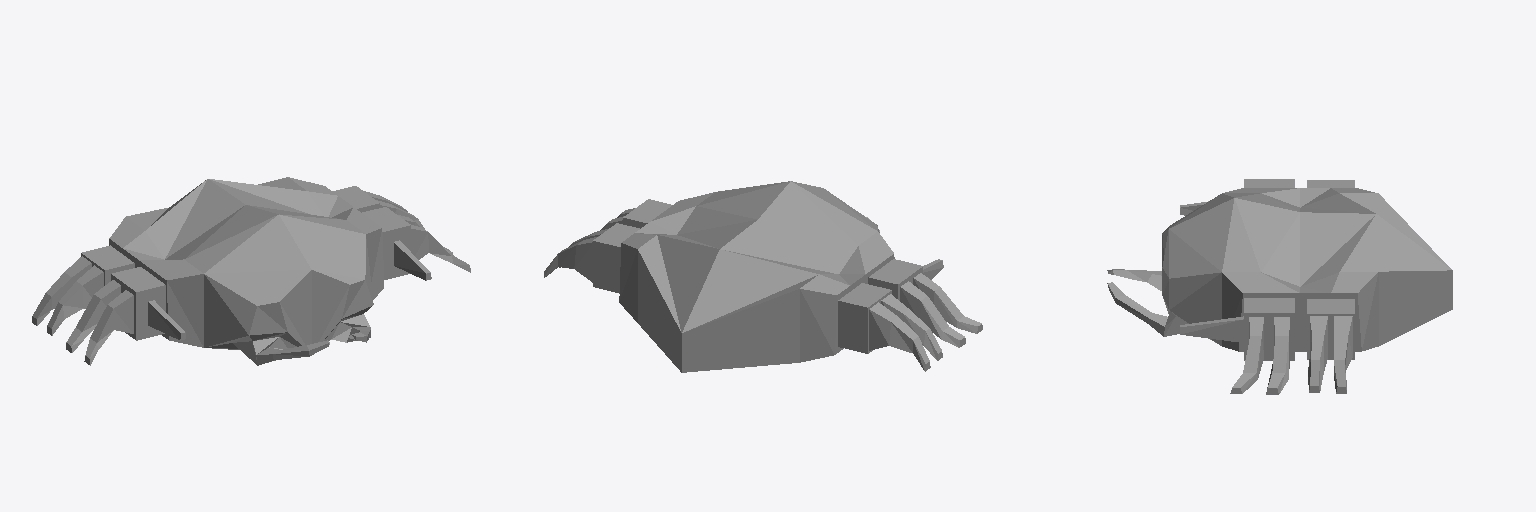
Rendered from Cadydid.obj.
3 renders of one model, left to right at view 1: azimuth 30°, elevation 25°; view 2: azimuth 150°, elevation 25°; view 3: azimuth 270°, elevation 25°, orthographic.
Parts seen in each view (by area): view 1: Cube; view 2: Cube; view 3: Cube.
Boxes of the visible parts, <box> form: Cube: <box>32,177,470,365</box>; Cube: <box>544,181,982,372</box>; Cube: <box>1107,179,1452,394</box>.
Size of the model in its own units: 10.78 by 3.14 by 8.44.